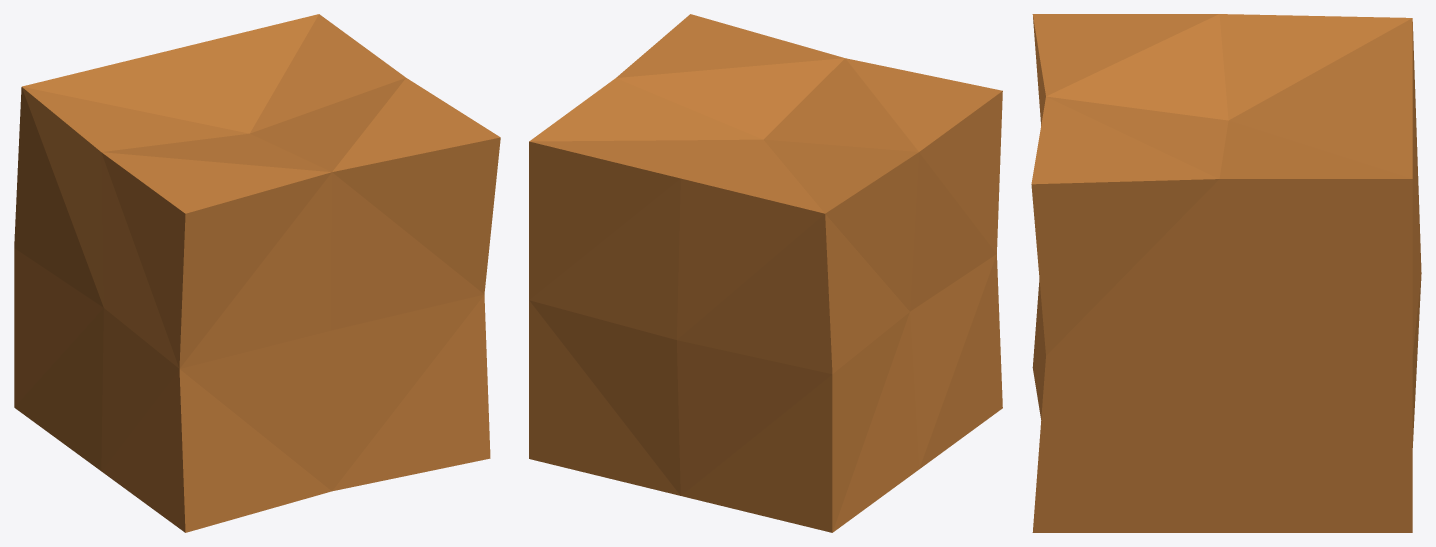
File: Prop_Junk_Cardboard_Box_05.FBX
3 renders of one model, left to right at view 1: azimuth 30°, elevation 25°; view 2: azimuth 150°, elevation 25°; view 3: azimuth 270°, elevation 25°, orthographic. The views are drawn at different scales.
Visible parts, largest first — view 1: Prop_Junk_Cardboard_Box_05; view 2: Prop_Junk_Cardboard_Box_05; view 3: Prop_Junk_Cardboard_Box_05.
Boxes of the visible parts, x1,y1,x2,y2 form: Prop_Junk_Cardboard_Box_05: [14, 14, 500, 532]; Prop_Junk_Cardboard_Box_05: [529, 14, 1002, 532]; Prop_Junk_Cardboard_Box_05: [1031, 14, 1421, 532].
Size of the model in its own units: 627 by 607 by 607.
